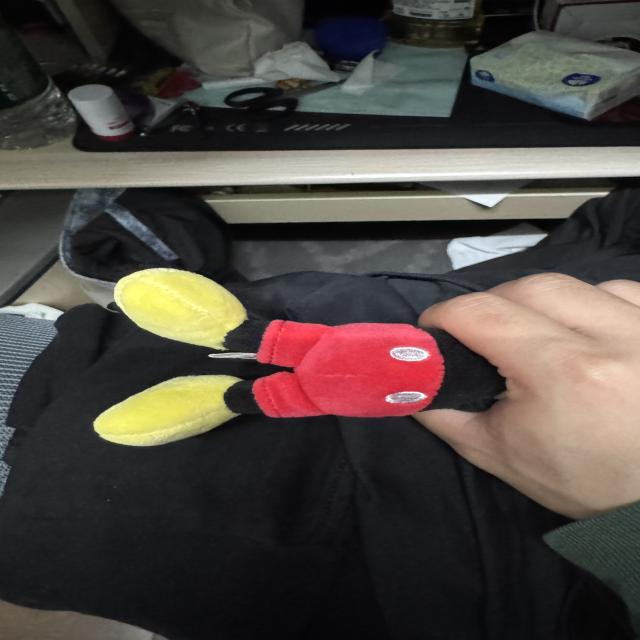mickey: (95, 269, 503, 445)
tissue: (471, 31, 639, 119), (255, 42, 342, 81)
